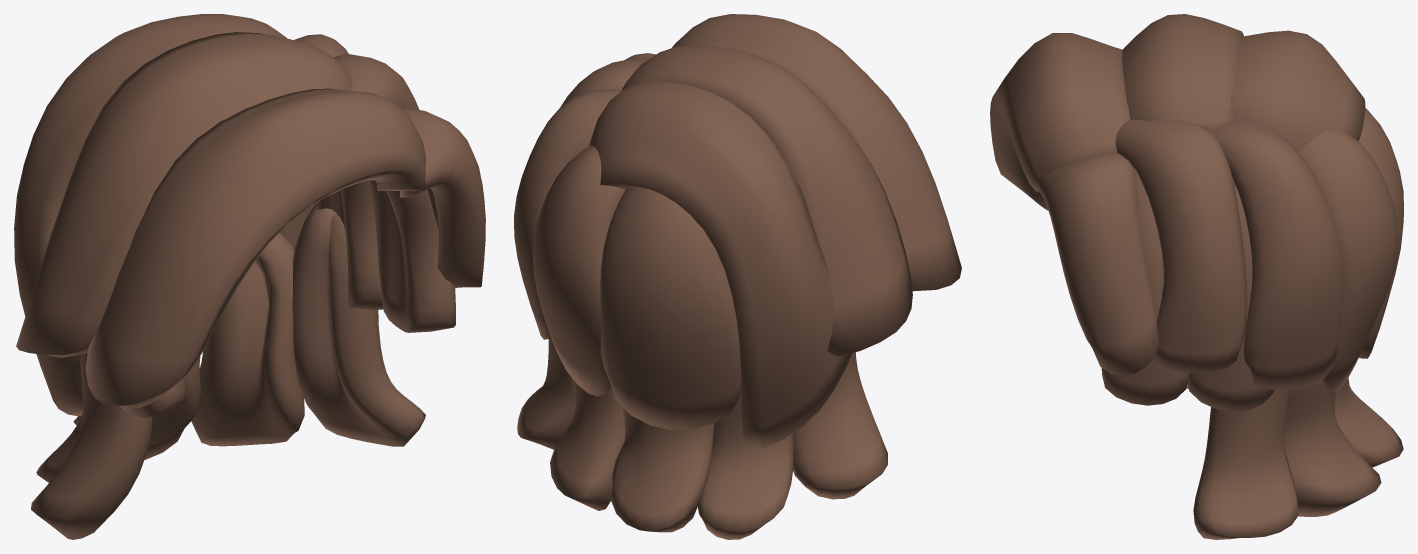
File: head3.glb
3 views of the same model, side by side, from view 1: azimuth 30°, elevation 25°; view 2: azimuth 150°, elevation 25°; view 3: azimuth 270°, elevation 25° (orthographic). The views are drawn at different scales.
Parts seen in each view (by area): view 1: CH_HairBand01, CH_HairBand03, CH_HairBand09, CH_HairBand04, CH_HairBand10, CH_HairBand11, CH_HairBand05.001, CH_HairBand02, CH_HairBand05.002, CH_HairBand05, CH_HairBand13, CH_HairBand06 (+2 smaller); view 2: CH_HairBand04, CH_HairBand08, CH_HairBand03, CH_HairBand01, CH_HairBand07, CH_HairBand13, CH_HairBand12, CH_HairBand11, CH_HairBand06, CH_HairBand10, CH_HairBand09, CH_HairBand05; view 3: CH_HairBand06, CH_HairBand05, CH_HairBand02, CH_HairBand01, CH_HairBand07, CH_HairBand09, CH_HairBand04, CH_HairBand03, CH_HairBand10, CH_HairBand05.001, CH_HairBand05.002, CH_HairBand13 (+1 smaller).
Boxes of the visible parts, bbox=[...] form: CH_HairBand01: bbox=[85, 88, 425, 407]; CH_HairBand03: bbox=[16, 32, 352, 358]; CH_HairBand09: bbox=[292, 203, 425, 446]; CH_HairBand04: bbox=[14, 14, 286, 416]; CH_HairBand10: bbox=[191, 233, 304, 446]; CH_HairBand11: bbox=[31, 353, 152, 539]; CH_HairBand05.001: bbox=[367, 180, 455, 332]; CH_HairBand02: bbox=[399, 108, 485, 287]; CH_HairBand05.002: bbox=[317, 181, 383, 309]; CH_HairBand05: bbox=[334, 53, 419, 109]; CH_HairBand13: bbox=[73, 356, 200, 459]; CH_HairBand06: bbox=[279, 34, 348, 250]; CH_HairBand04: bbox=[589, 81, 851, 448]; CH_HairBand08: bbox=[600, 187, 741, 430]; CH_HairBand03: bbox=[622, 45, 912, 356]; CH_HairBand01: bbox=[671, 14, 961, 291]; CH_HairBand07: bbox=[533, 145, 625, 396]; CH_HairBand13: bbox=[610, 407, 714, 532]; CH_HairBand12: bbox=[697, 398, 793, 539]; CH_HairBand11: bbox=[793, 352, 887, 499]; CH_HairBand06: bbox=[514, 89, 622, 339]; CH_HairBand10: bbox=[550, 377, 625, 510]; CH_HairBand09: bbox=[517, 338, 575, 449]; CH_HairBand05: bbox=[561, 58, 649, 106]; CH_HairBand06: bbox=[1211, 121, 1344, 389]; CH_HairBand05: bbox=[1115, 119, 1247, 373]; CH_HairBand02: bbox=[1037, 152, 1159, 375]; CH_HairBand01: bbox=[990, 33, 1130, 210]; CH_HairBand07: bbox=[1299, 130, 1398, 392]; CH_HairBand09: bbox=[1193, 389, 1298, 539]; CH_HairBand04: bbox=[1230, 30, 1365, 152]; CH_HairBand03: bbox=[1122, 14, 1243, 130]; CH_HairBand10: bbox=[1284, 379, 1381, 516]; CH_HairBand05.001: bbox=[1101, 160, 1190, 405]; CH_HairBand05.002: bbox=[1187, 183, 1273, 412]; CH_HairBand13: bbox=[1334, 378, 1403, 467].
Bounding box in the file's own units: 58.5 × 64.31 × 53.46.
